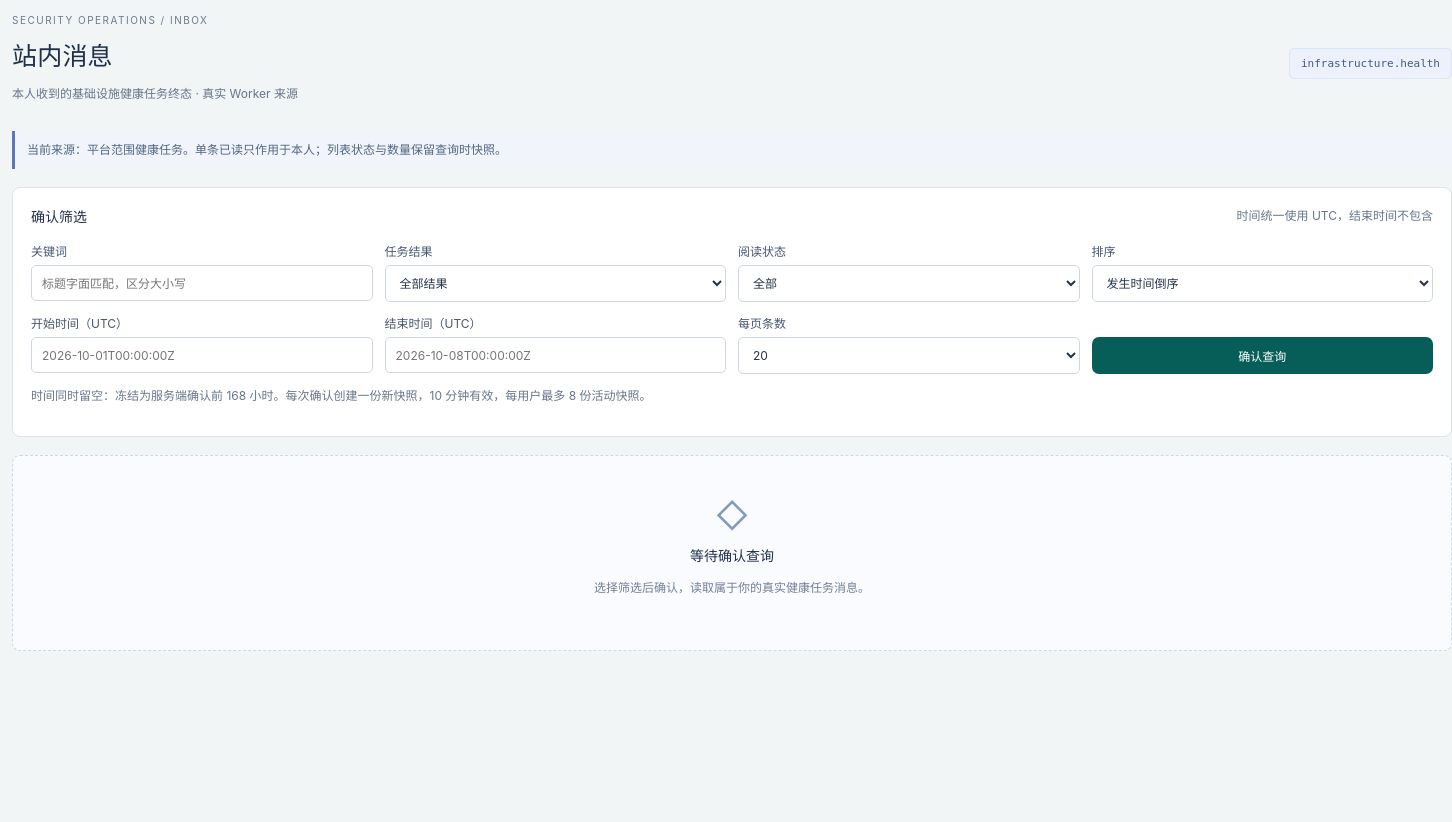
it: cancelled query cannot resurrect a result when response ignores abort
Click the button "确认查询" at (1262,356), box [1092,337,1433,374]
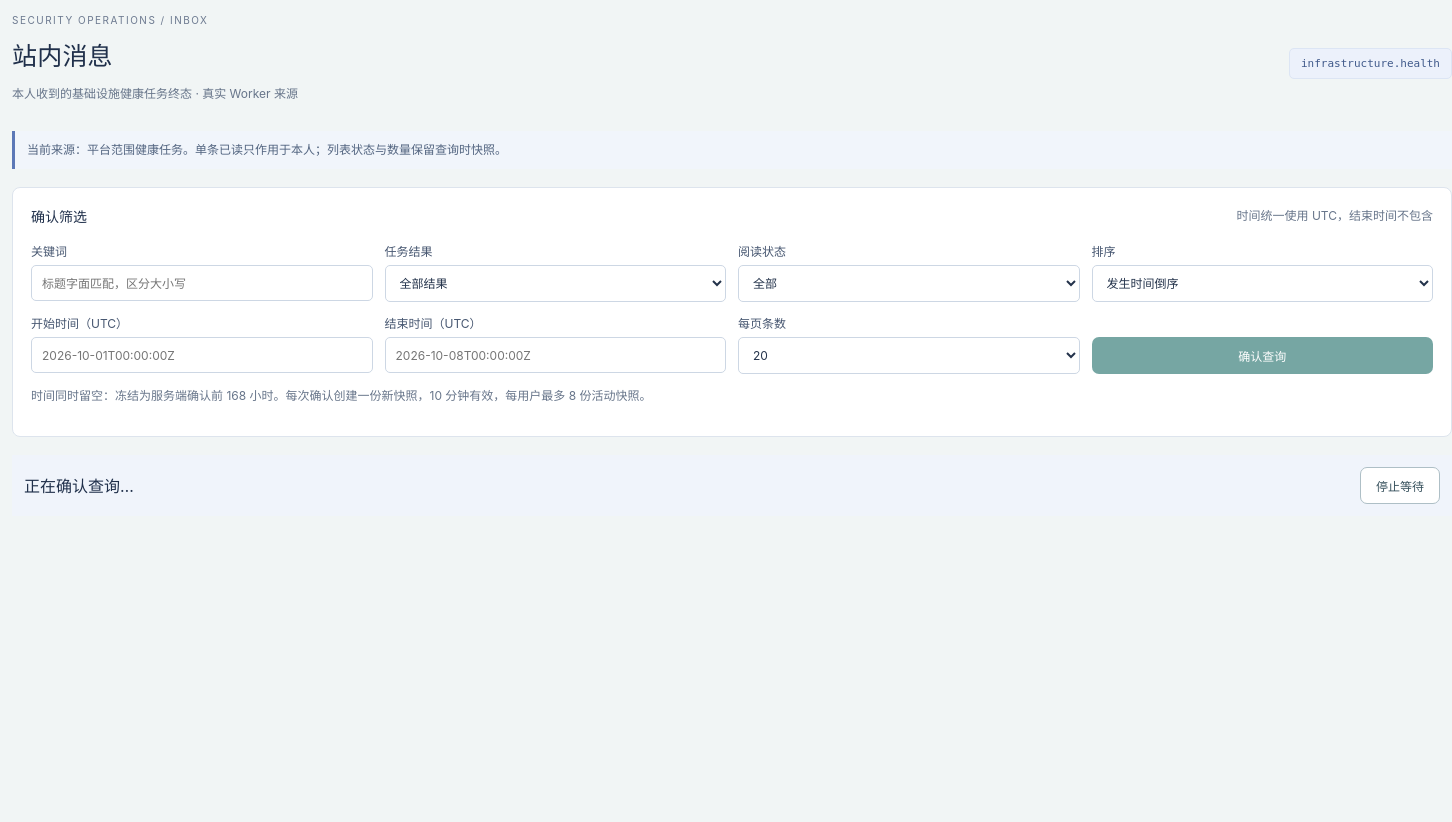
Click the button "停止等待" at (1400,485), box [1360,467,1440,504]
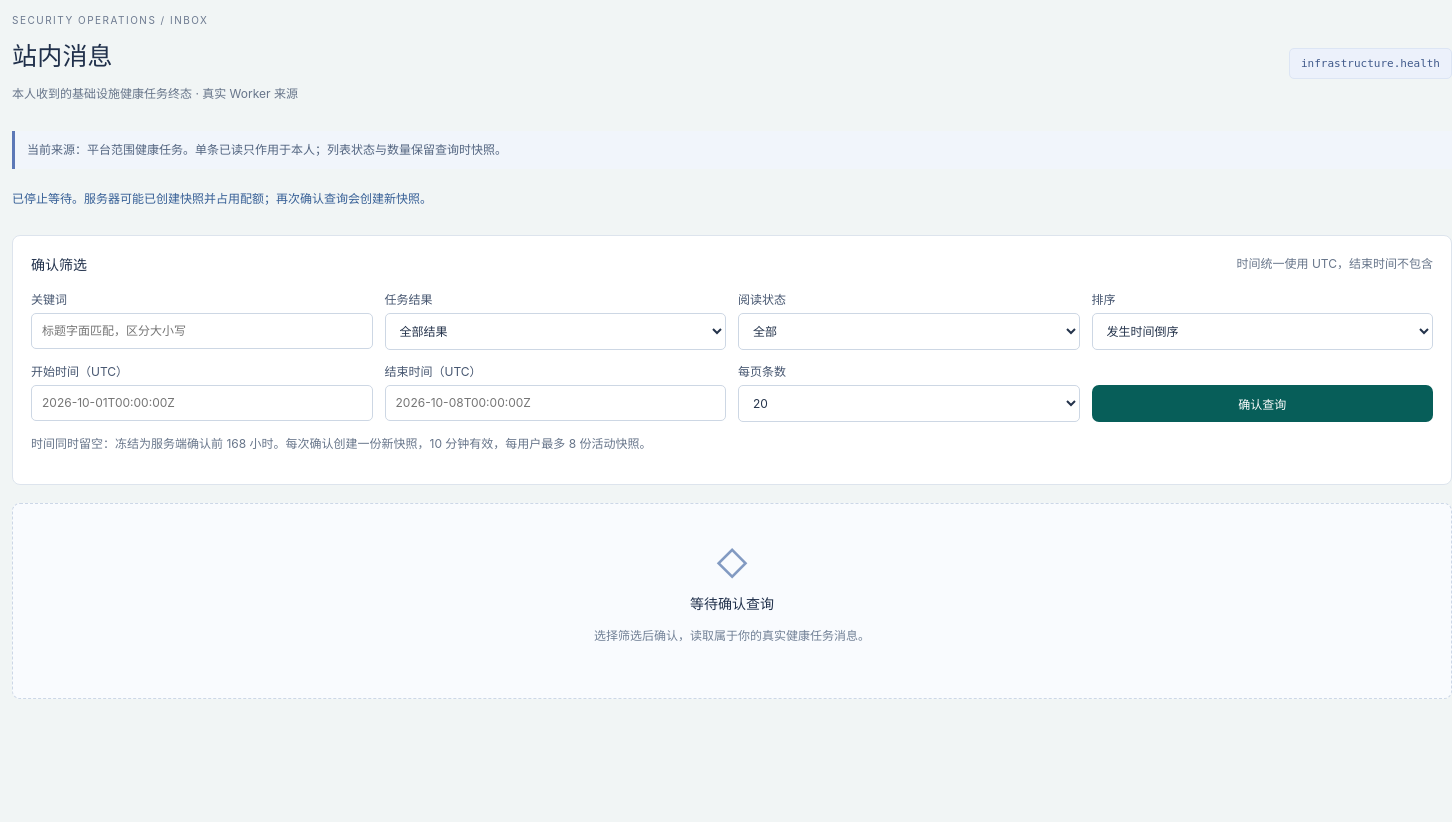
Now the text "已停止等待。服务器可能已创建快照并占用配额；再次确认查询会创建新快照。" is shown, box [12,191,432,206]
